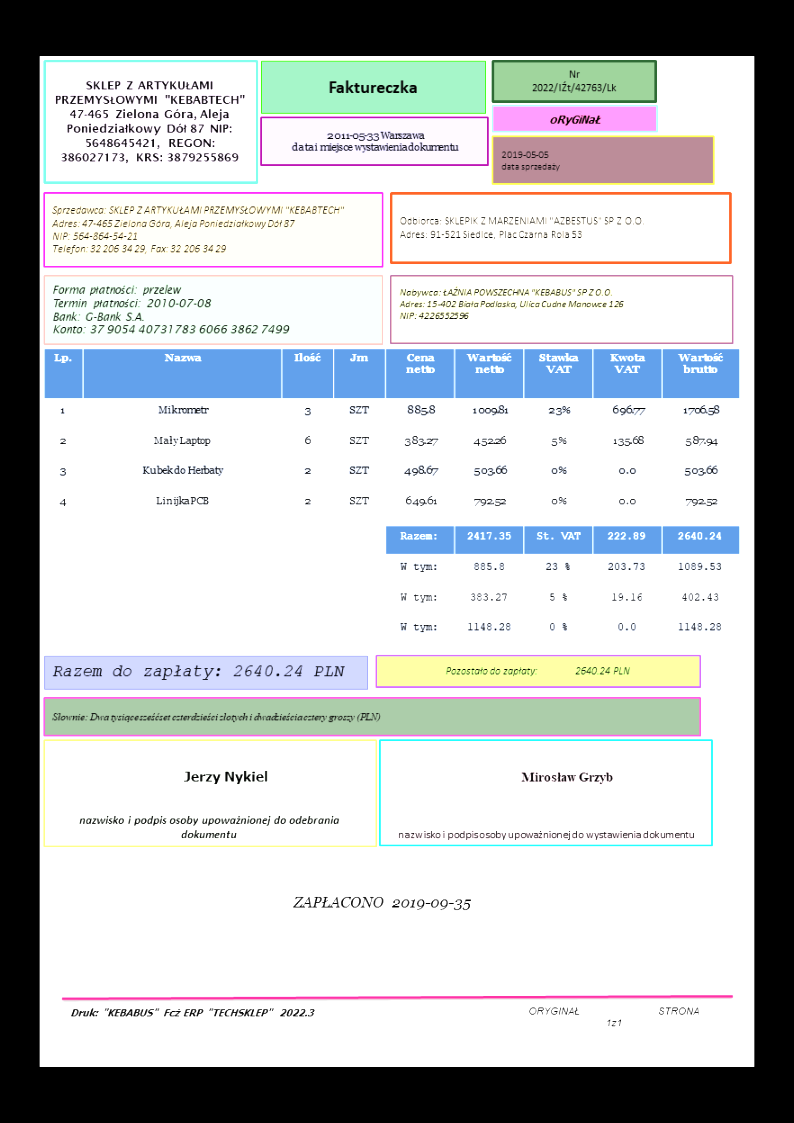Table: (42, 347, 742, 521), (384, 524, 741, 647)
TextBox: (51, 77, 248, 164), (49, 203, 345, 257), (49, 283, 291, 337), (396, 285, 625, 322), (397, 213, 645, 241), (50, 710, 383, 726), (51, 662, 346, 680), (289, 127, 462, 154), (526, 1005, 702, 1028), (289, 893, 473, 913), (69, 1005, 316, 1019), (443, 664, 631, 678), (530, 66, 619, 95), (325, 78, 419, 97), (499, 148, 564, 174), (180, 768, 270, 786), (519, 770, 614, 785), (546, 111, 605, 126)
